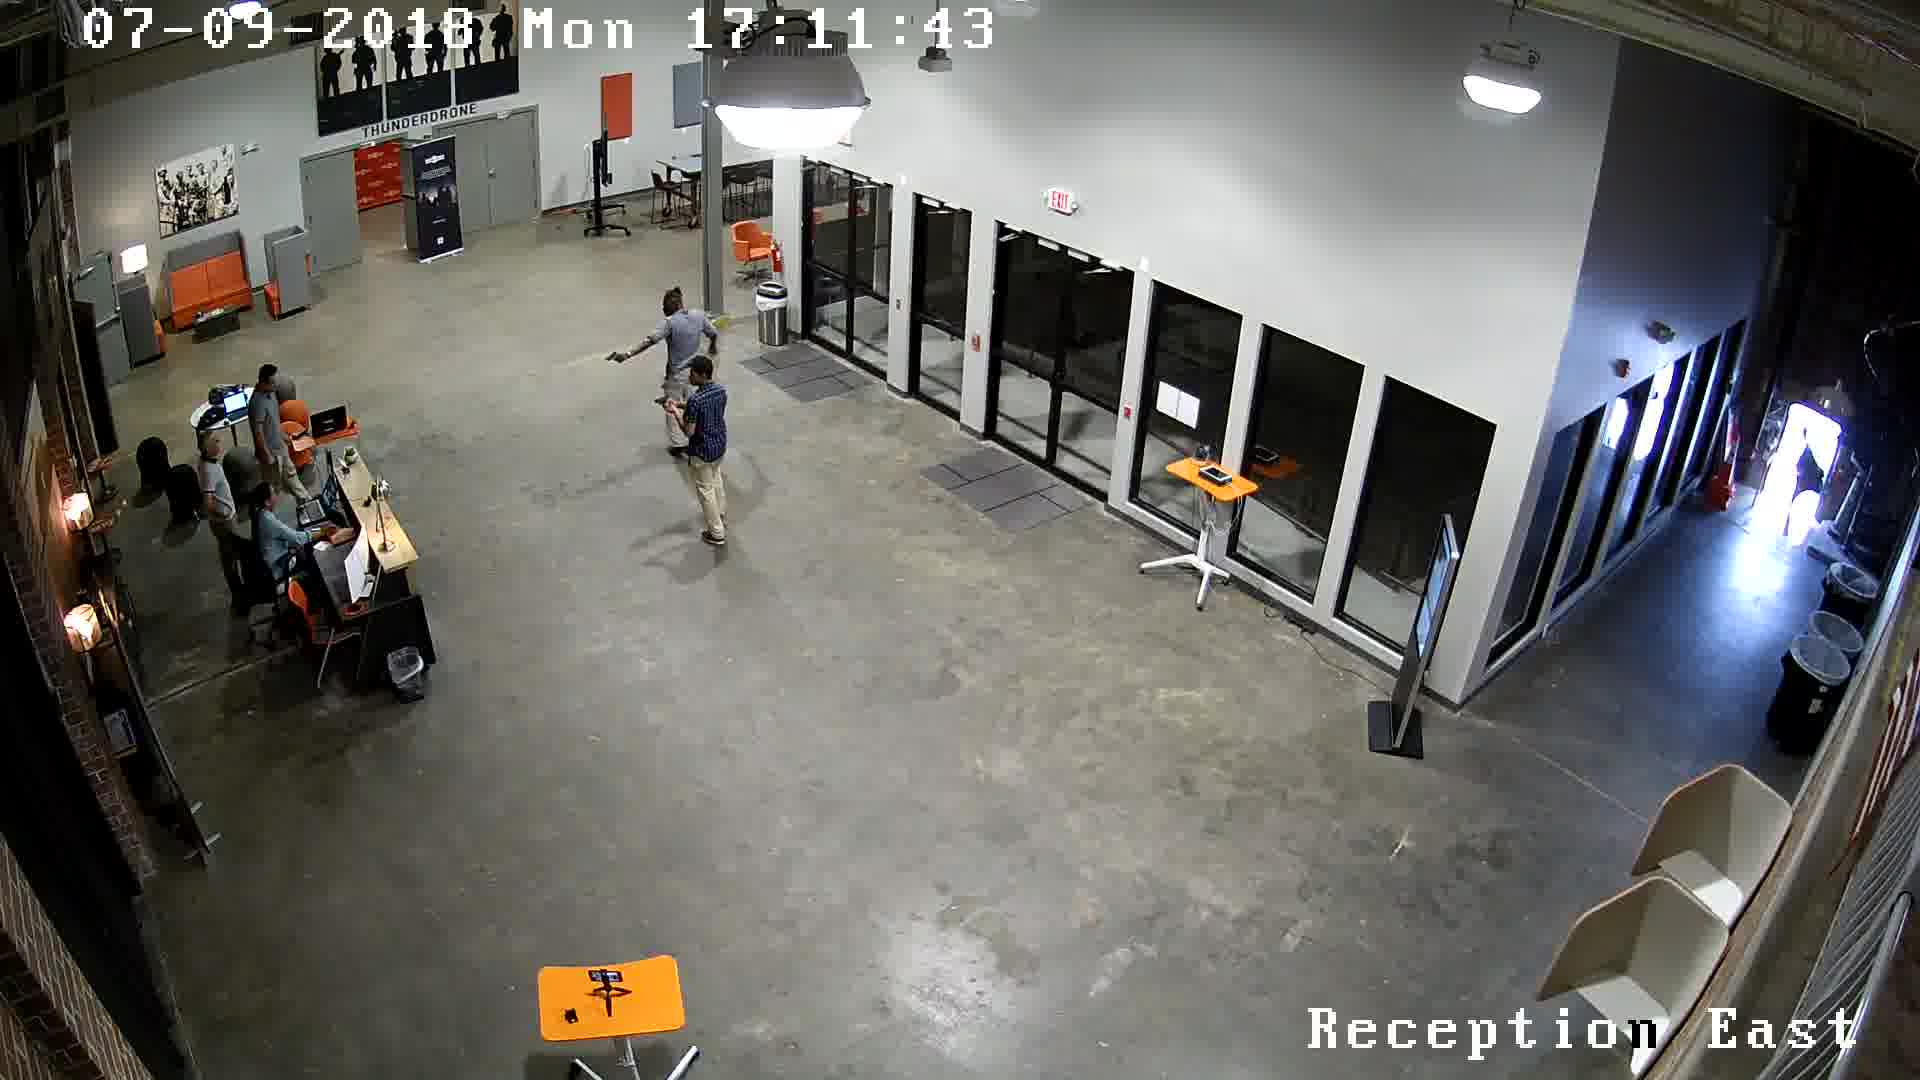pistol: (597, 347, 633, 386), (651, 394, 676, 415)
